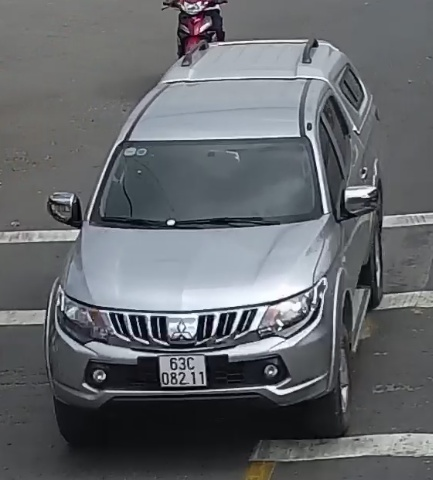vehicle plate: (156, 351, 210, 391)
